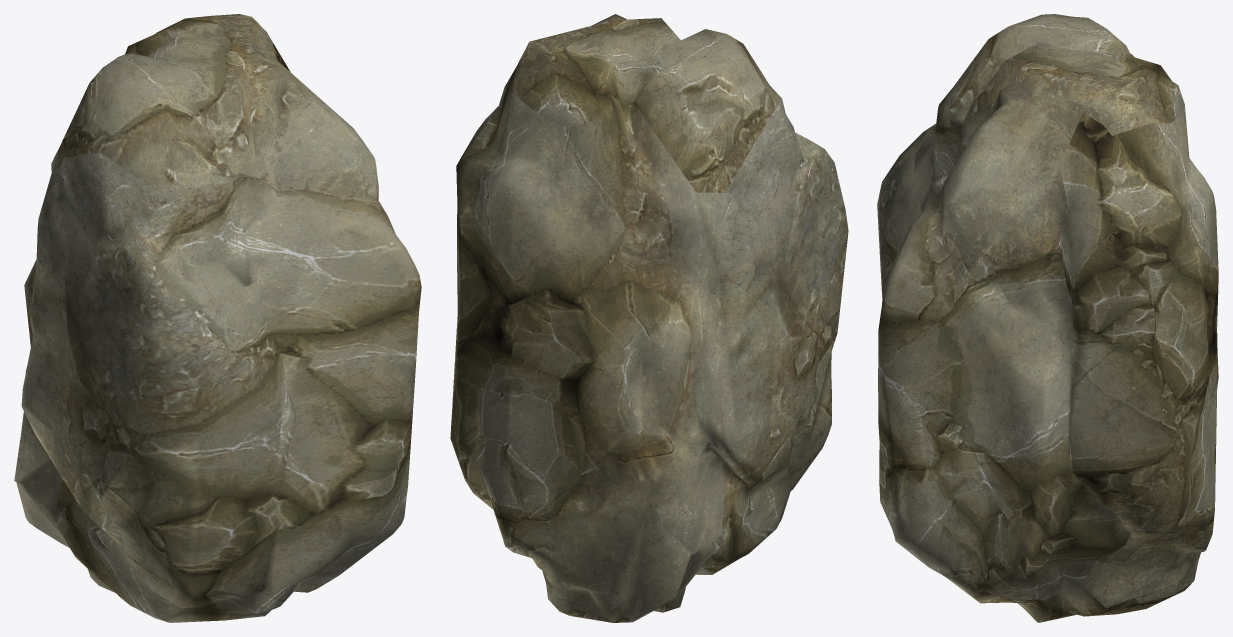
The model's file is cliff3.fbx.
3 views of the same model, side by side, from view 1: azimuth 30°, elevation 25°; view 2: azimuth 150°, elevation 25°; view 3: azimuth 270°, elevation 25° (orthographic).
Parts seen in each view (by area): view 1: cliff3; view 2: cliff3; view 3: cliff3.
Boxes of the visible parts, x1,y1,x2,y2 form: cliff3: (14,14,421,622); cliff3: (450,14,848,622); cliff3: (877,14,1218,622).
Bounding box in the file's own units: 2727 × 4975 × 2817.
1 material, 1 textured.
